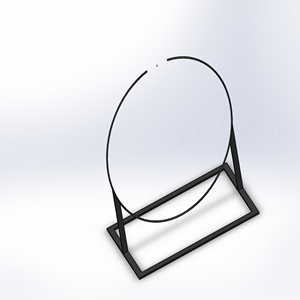circle: (103, 53, 262, 280)
